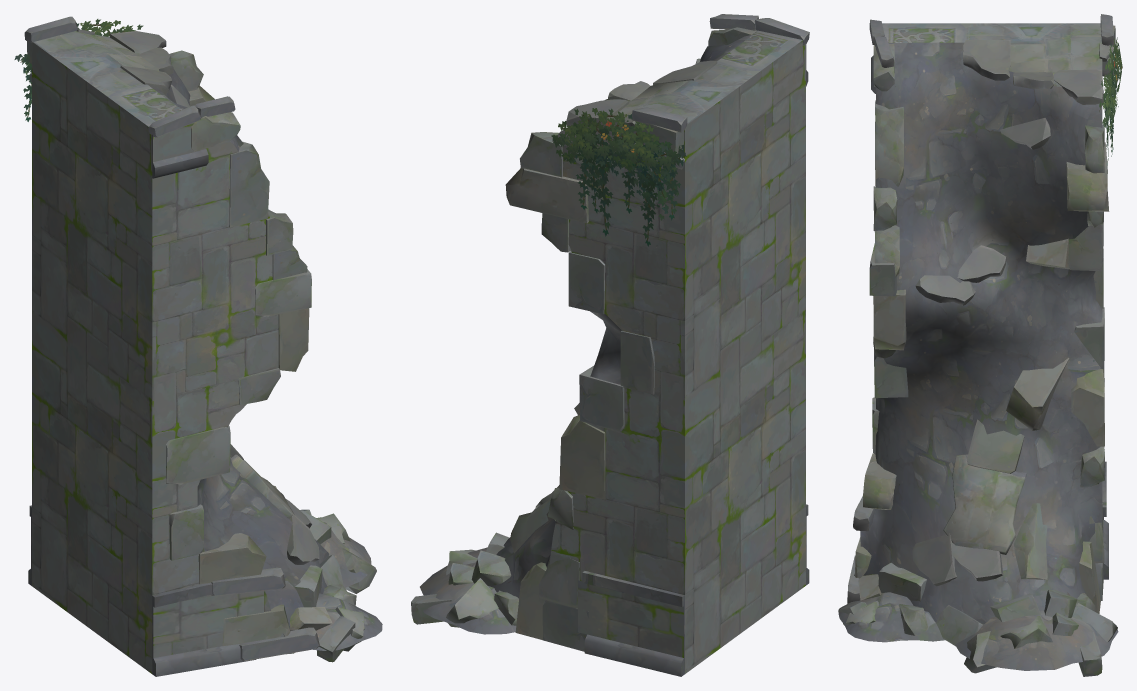
Rendered from Area_MdBuild_SdWall01_02_Group.fbx.
3 views of the same model, side by side, from view 1: azimuth 30°, elevation 25°; view 2: azimuth 150°, elevation 25°; view 3: azimuth 270°, elevation 25° (orthographic). The views are drawn at different scales.
Parts seen in each view (by area): view 1: Area_MdBuild_SdWall01_02_Lod0, Stages_LYLvy08_Vo (1); view 2: Area_MdBuild_SdWall01_02_Lod0, Stages_LYLvy08_Vo (1); view 3: Area_MdBuild_SdWall01_02_Lod0, Stages_LYLvy08_Vo (1).
Boxes of the visible parts, x1=… form: Area_MdBuild_SdWall01_02_Lod0: x1=24, y1=16, x2=382, y2=676; Stages_LYLvy08_Vo (1): x1=14, y1=19, x2=143, y2=121; Area_MdBuild_SdWall01_02_Lod0: x1=411, y1=14, x2=809, y2=676; Stages_LYLvy08_Vo (1): x1=551, y1=108, x2=686, y2=246; Area_MdBuild_SdWall01_02_Lod0: x1=838, y1=14, x2=1118, y2=676; Stages_LYLvy08_Vo (1): x1=1099, y1=37, x2=1122, y2=164.
Bounding box in the file's own units: 11.57 × 21.26 × 10.07.
Materials: 6 (6 with a texture image).
